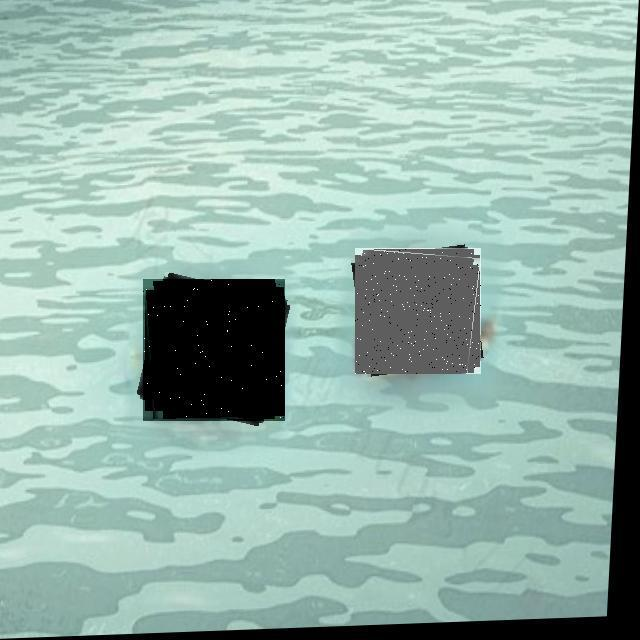swimming: (143, 279, 285, 421), (355, 248, 481, 374)
